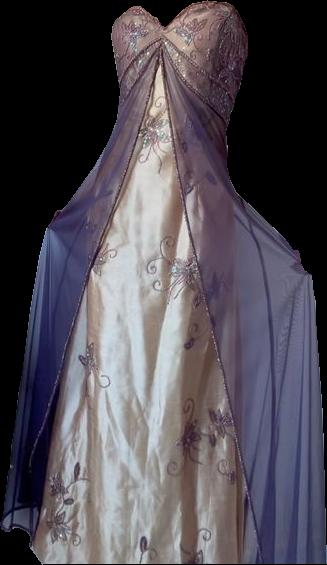Bodice: (111, 1, 247, 124)
Hemline: (0, 44, 326, 564), (33, 552, 326, 564)
Neckline: (108, 0, 248, 40)
Skirt: (0, 49, 326, 564)
Waistline: (120, 41, 226, 129)
